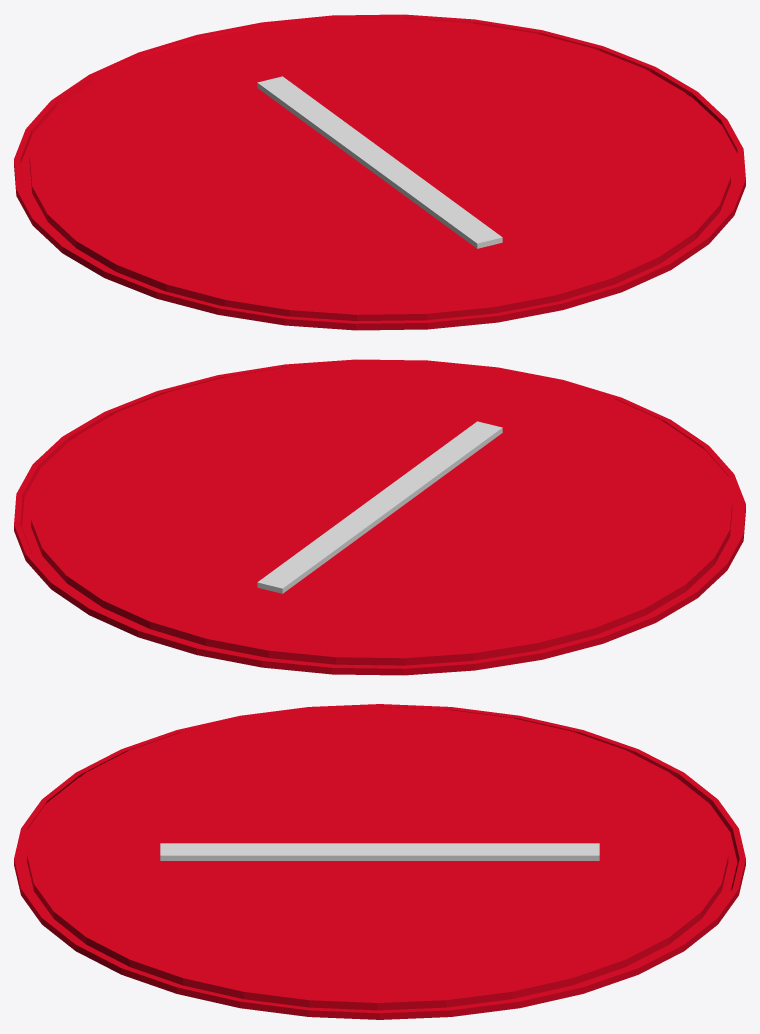
File: Stand.fbx
3 views of the same model, one above another, from view 1: azimuth 30°, elevation 25°; view 2: azimuth 150°, elevation 25°; view 3: azimuth 270°, elevation 25° (orthographic).
Parts seen in each view (by area): view 1: Cylinder; view 2: Cylinder; view 3: Cylinder.
Part boxes in pixels (left/top/right/bottom): Cylinder: left=14, top=14, right=745, bottom=330; Cylinder: left=14, top=359, right=745, bottom=675; Cylinder: left=14, top=704, right=745, bottom=1019.
Size of the model in its own units: 200 by 4.76 by 200.
